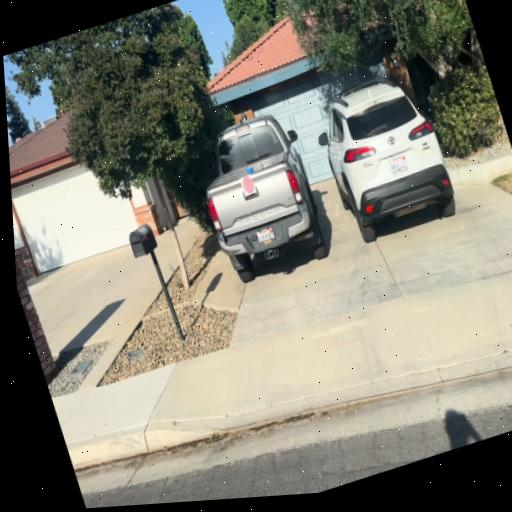bullseye: (241, 174, 256, 195)
